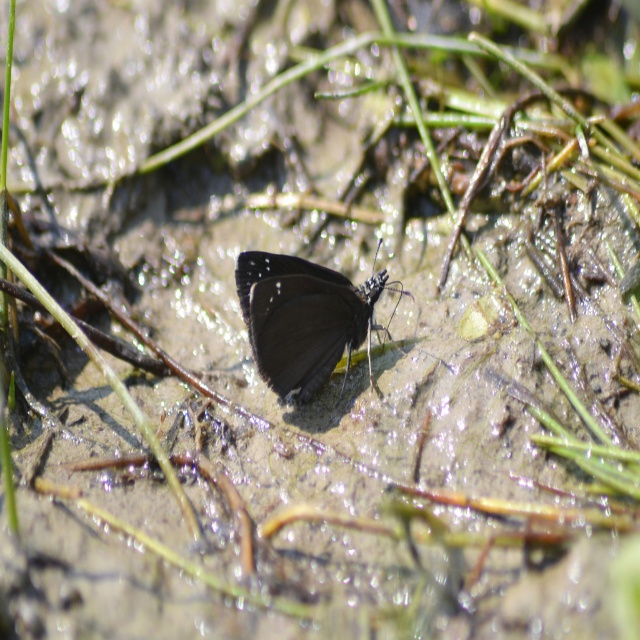Butterfly: (233, 228, 415, 418)
